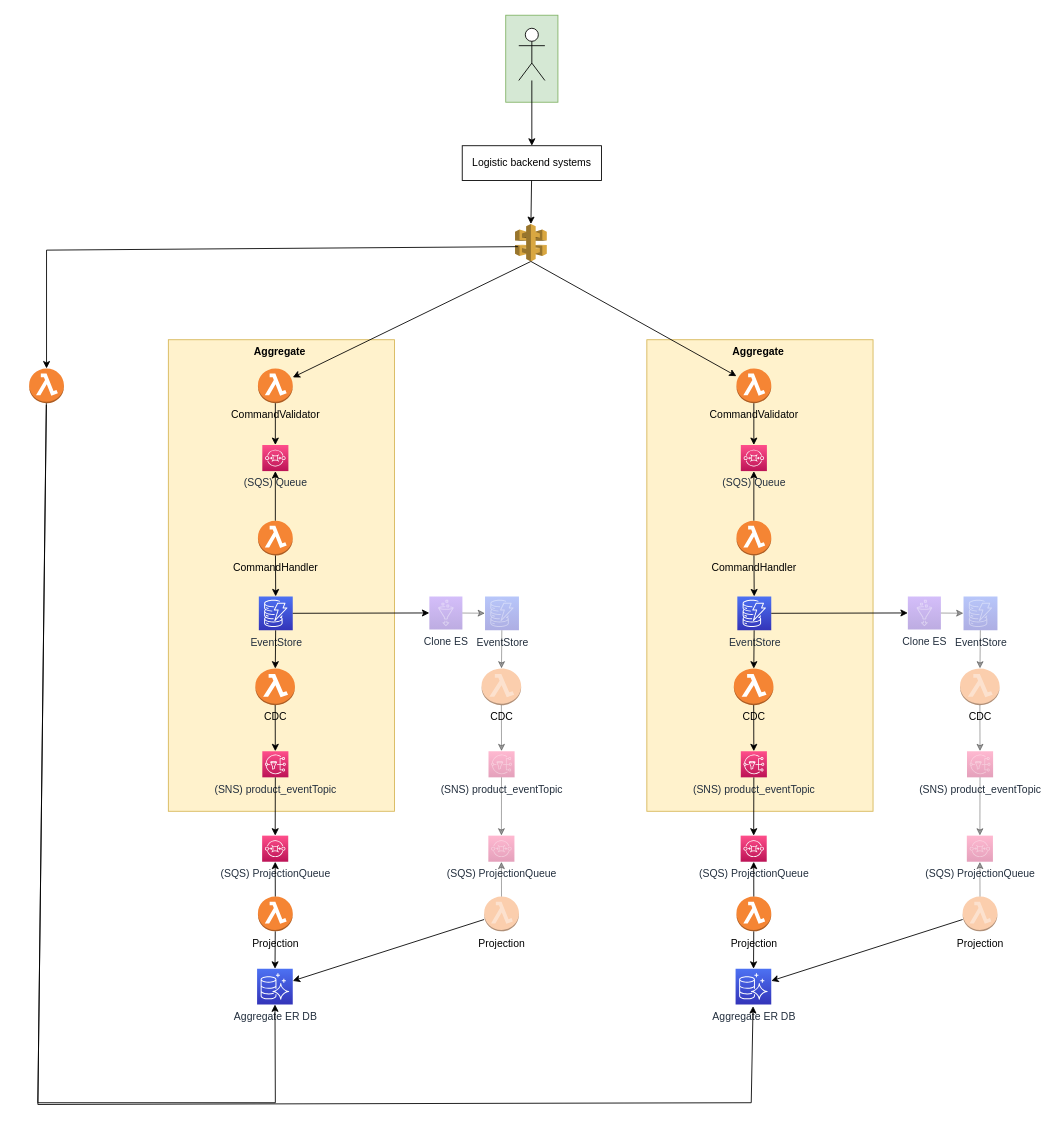
The diagram is 1056 pixels wide and 1127 high, and some of its shapes have lost their labels. Each missing label, with the centre of its shape:
"Client" goes at [531,53].
"LogisticBackboneAPIs" goes at [530,242].
"QueryHander" goes at [46,385].
